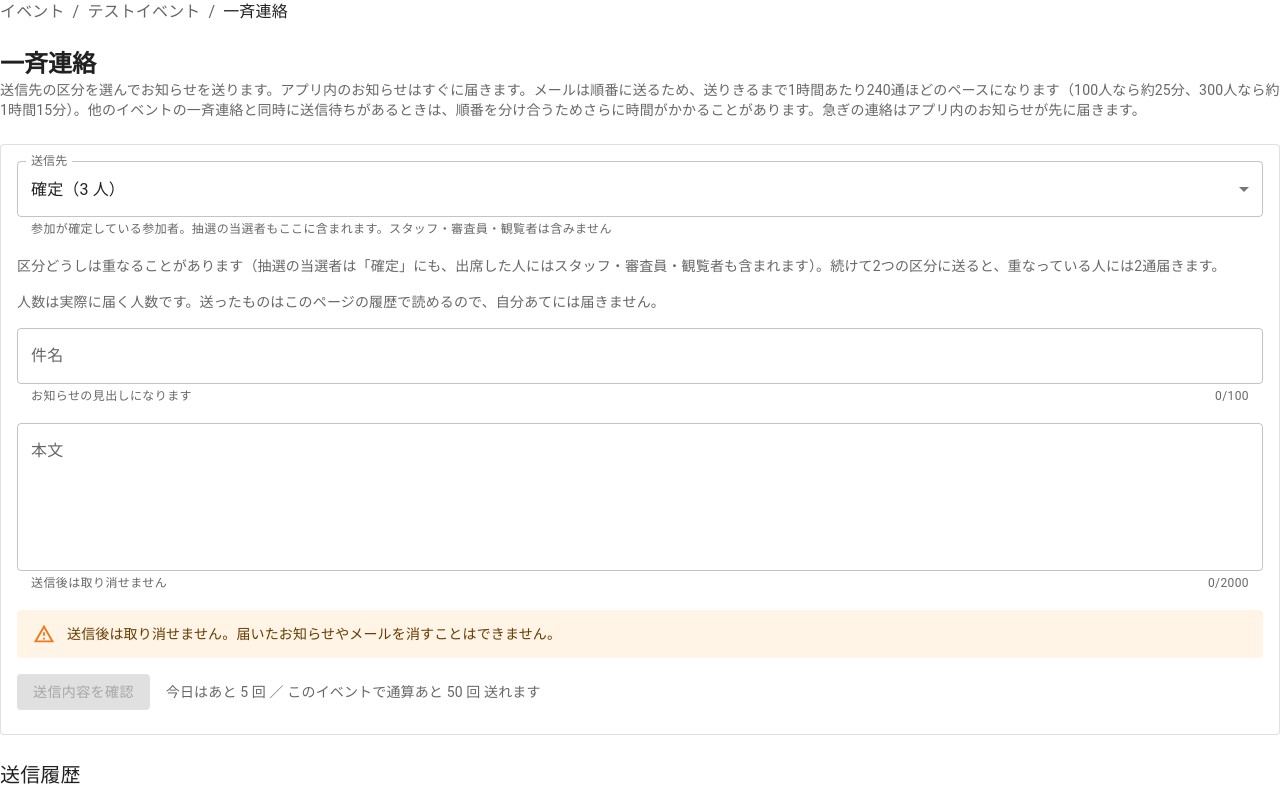
送信前の確認 (#172) › 宛先が0人になっていたら、確認で届かないことを知らせる
Check: the dropdown "確定（3 人）" is shown, box [31,180,125,198]
Type "件名" into the field labelled "件名". click: (640, 356)
box: [17,328,1263,384]
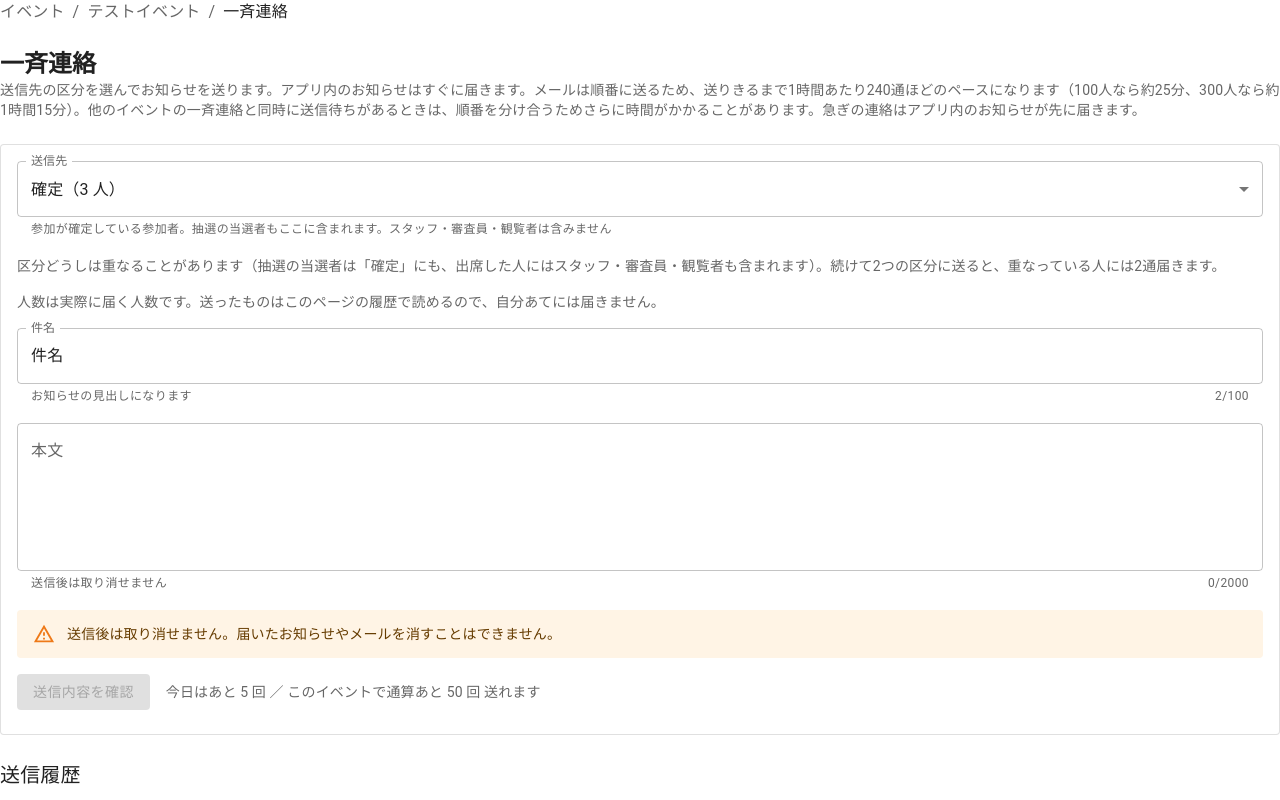
Type "本文" into the text box labelled "本文". click: (640, 497)
box: [31,439,1249,554]
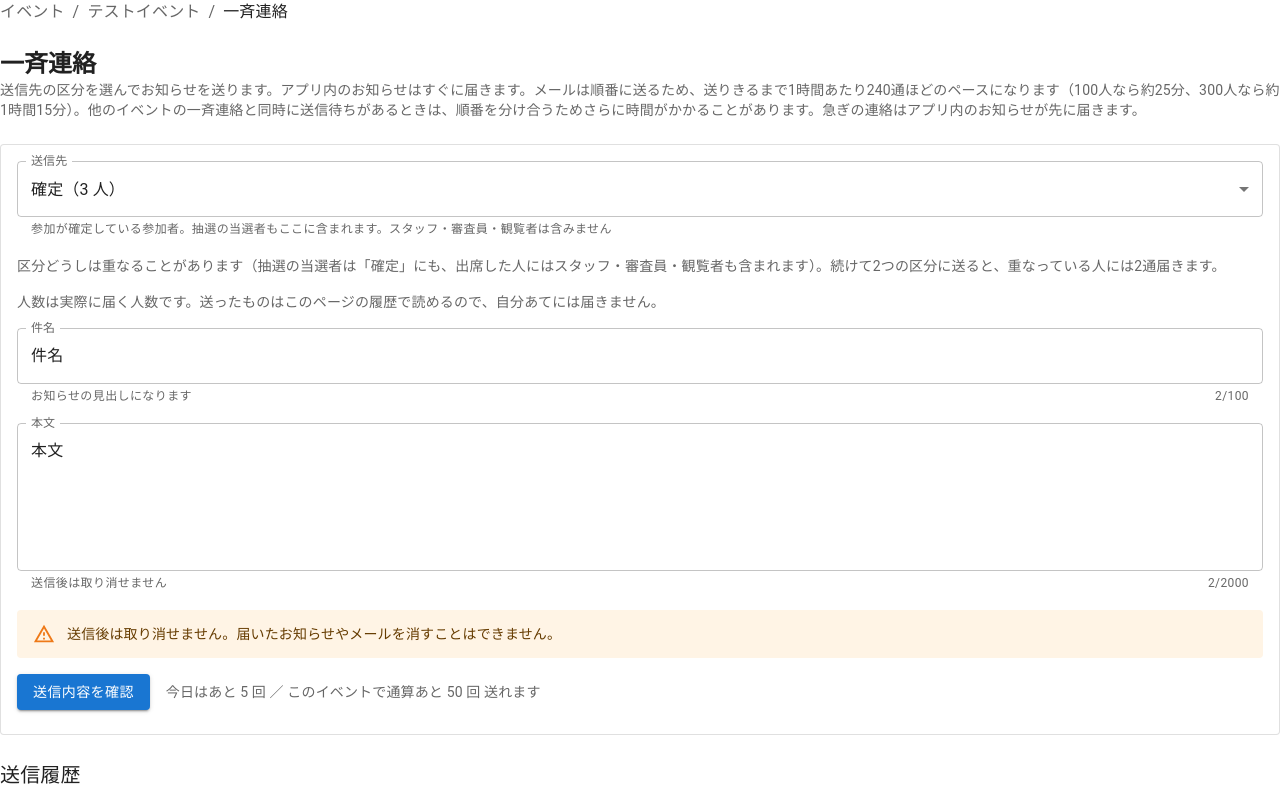
Click the button "送信内容を確認". click: (83, 692)
box: [17,674,150,710]
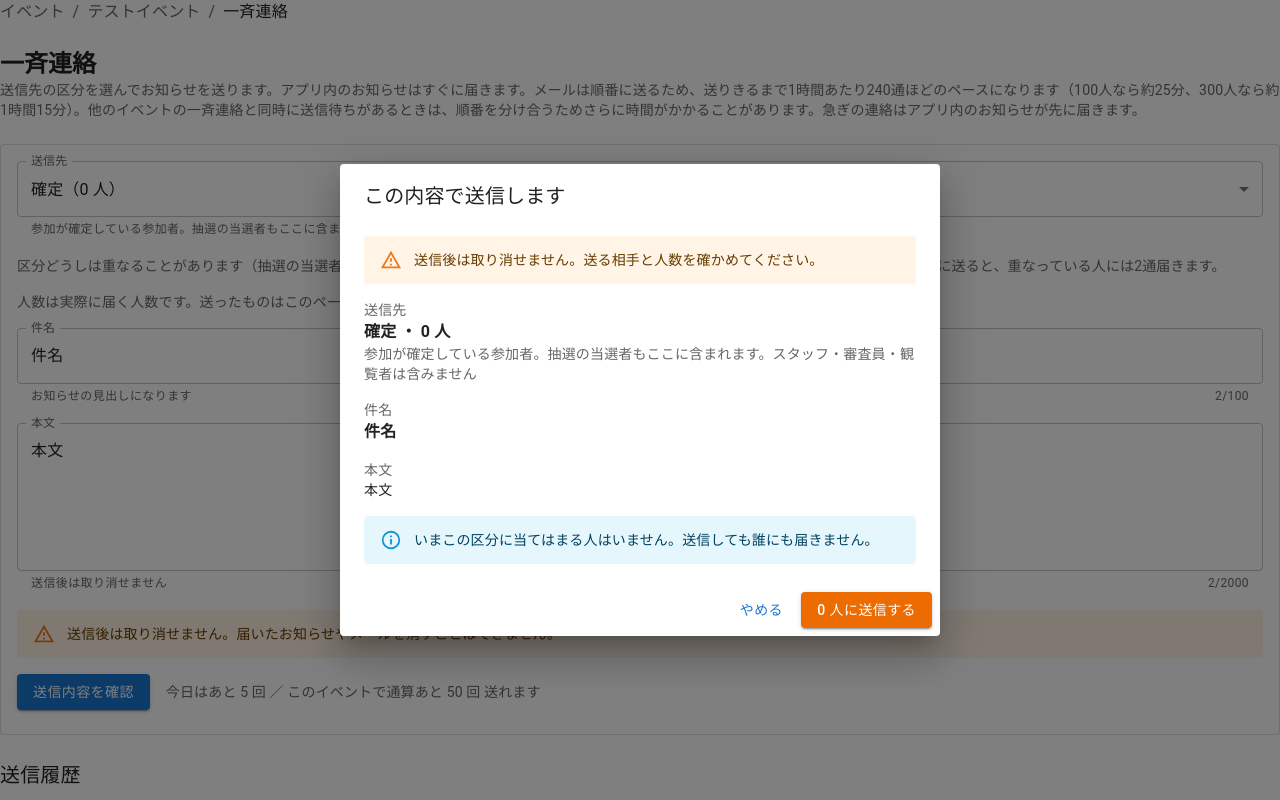
Check: the text "いまこの区分に当てはまる人はいません。送信しても誰にも届きません。" is shown, box [414,532,879,548]
